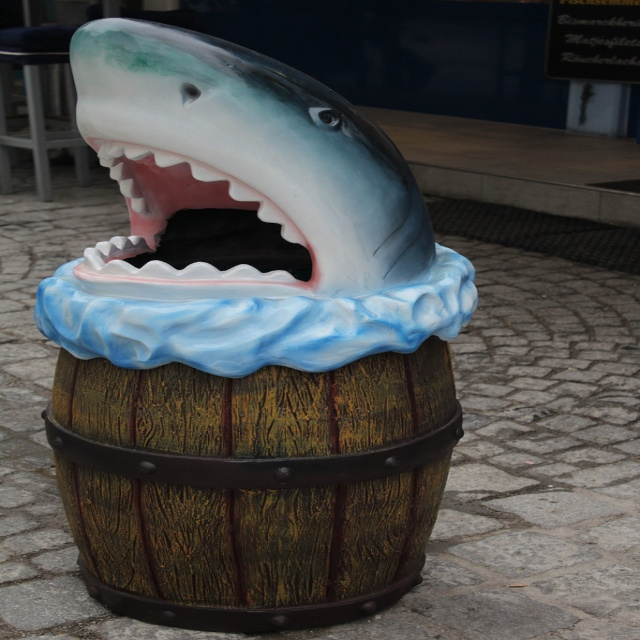Shark: (73, 16, 439, 301)
